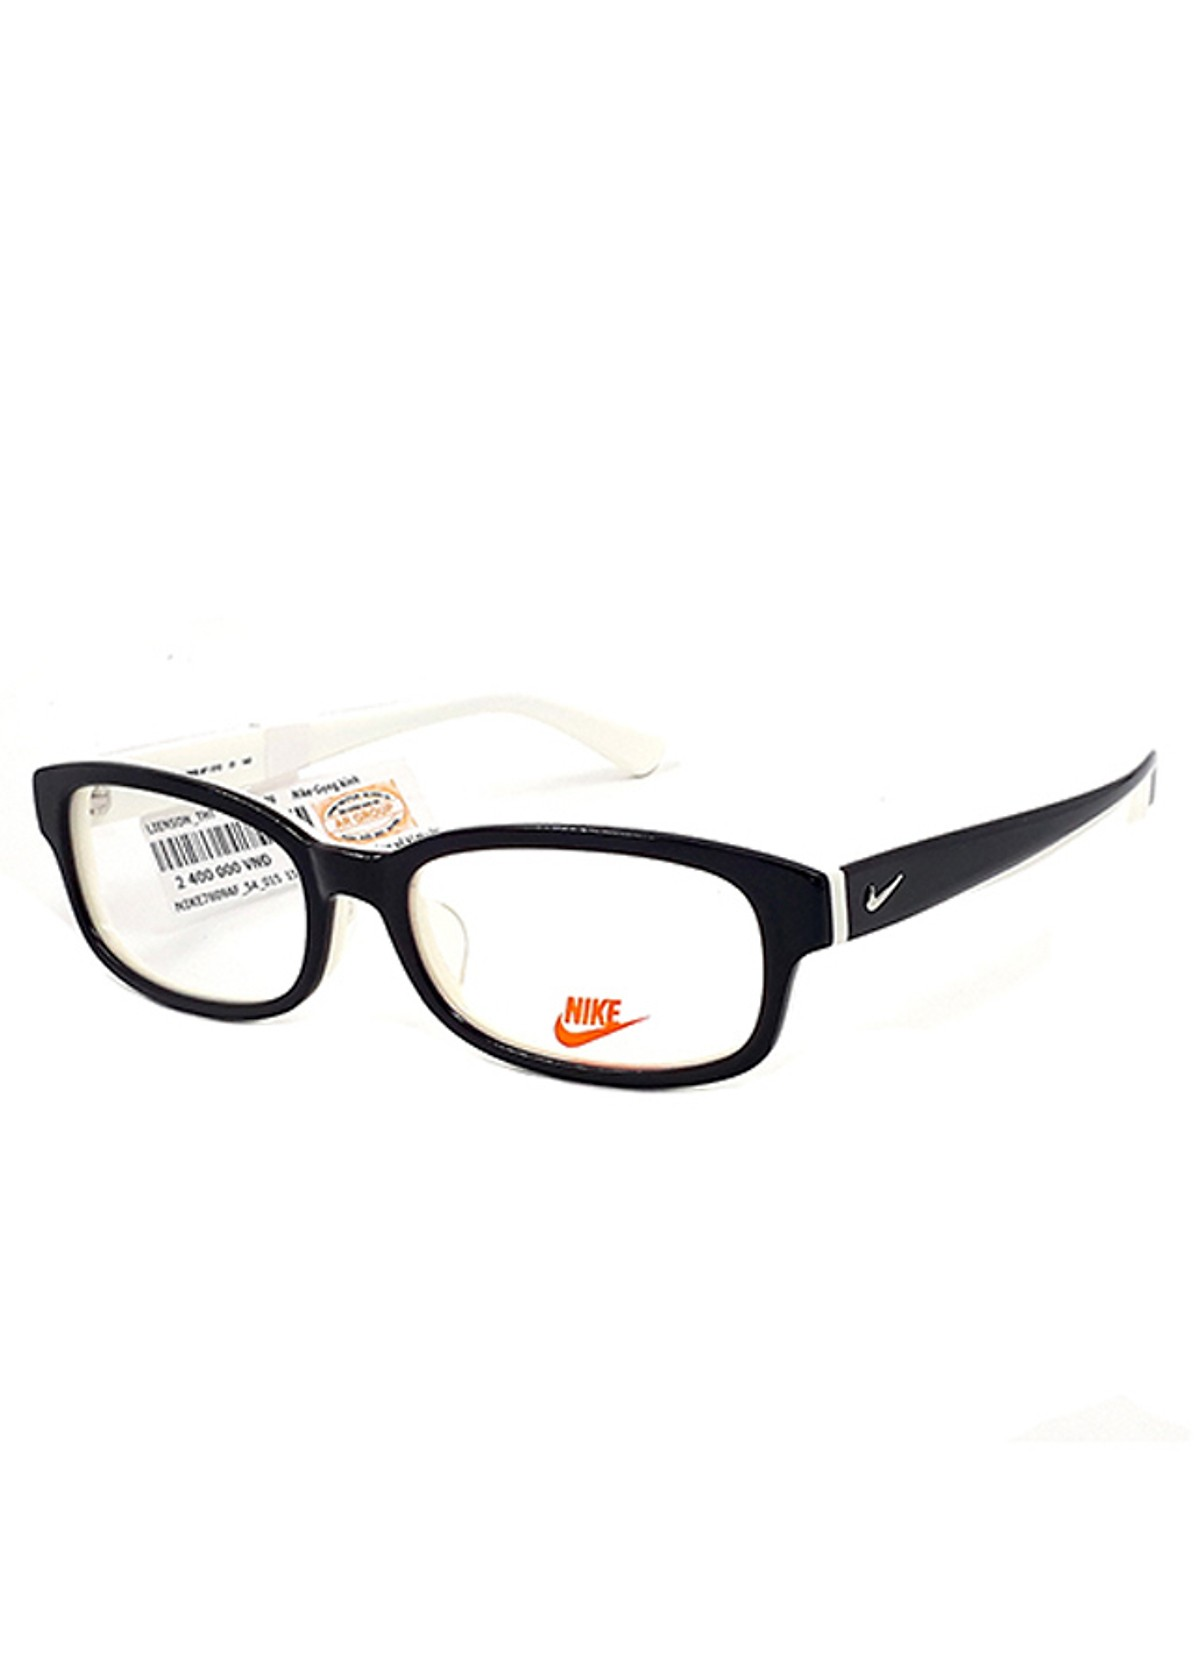Nike: (435, 911, 742, 1120)
